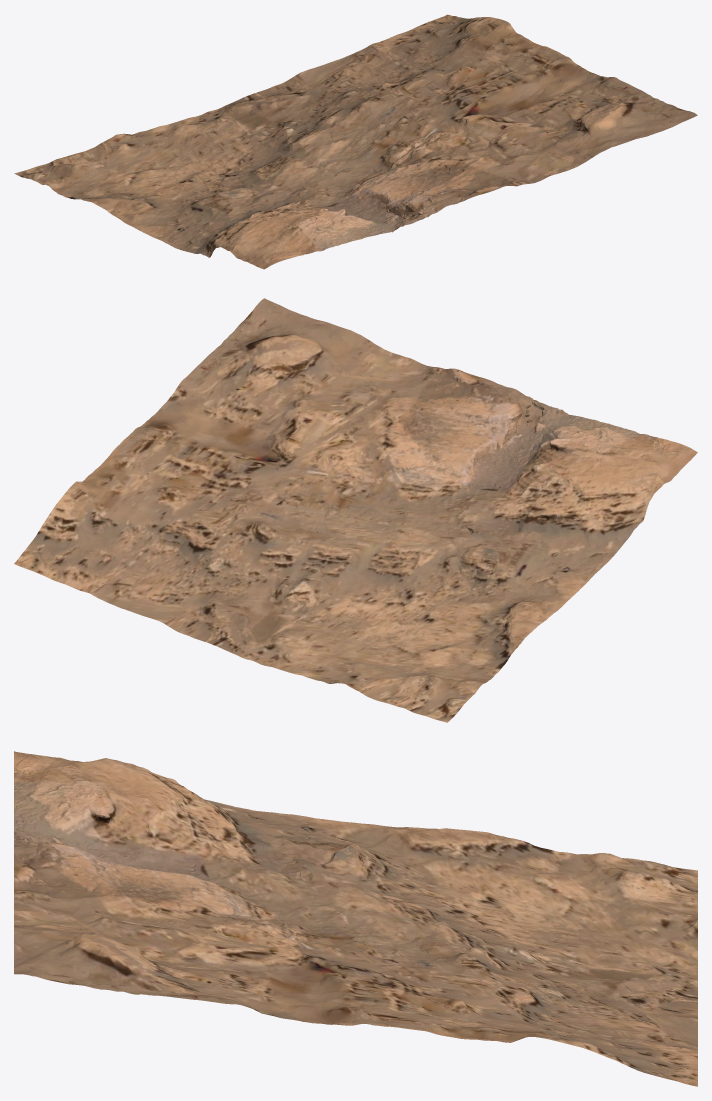
3 renders of one model, top to bottom at view 1: azimuth 30°, elevation 25°; view 2: azimuth 150°, elevation 25°; view 3: azimuth 270°, elevation 25°, orthographic. The views are drawn at different scales.
Bounding box in the file's own units: 4.18 × 1.25 × 4.18.
2 materials, 2 textured.
